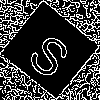S: (24, 25, 80, 82)
